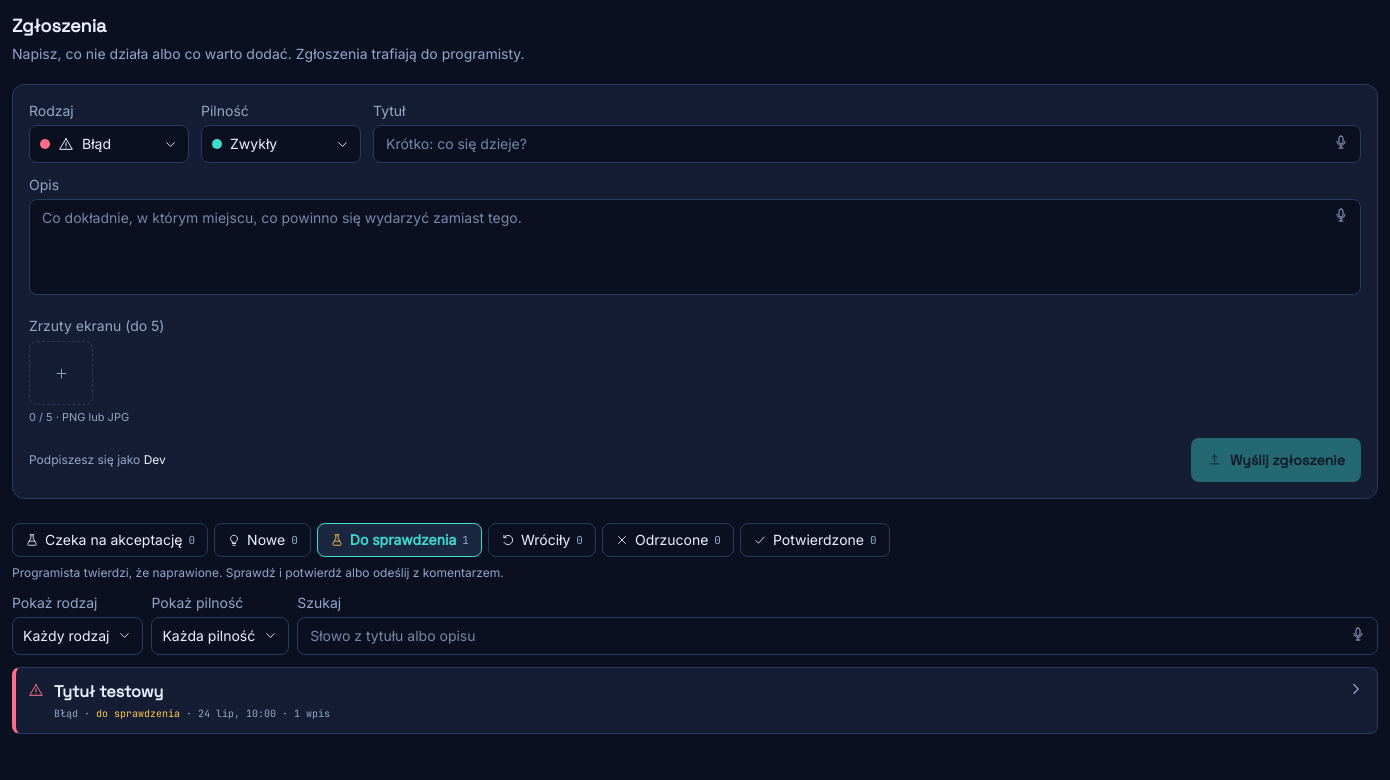
Test: ReportsPanel — podpis autora notatki › stara notatka bez autora dalej pokazuje etykietę strony obiegu
Click the button "Tytuł testowy": (109, 691) 12,666 -> 1378,734
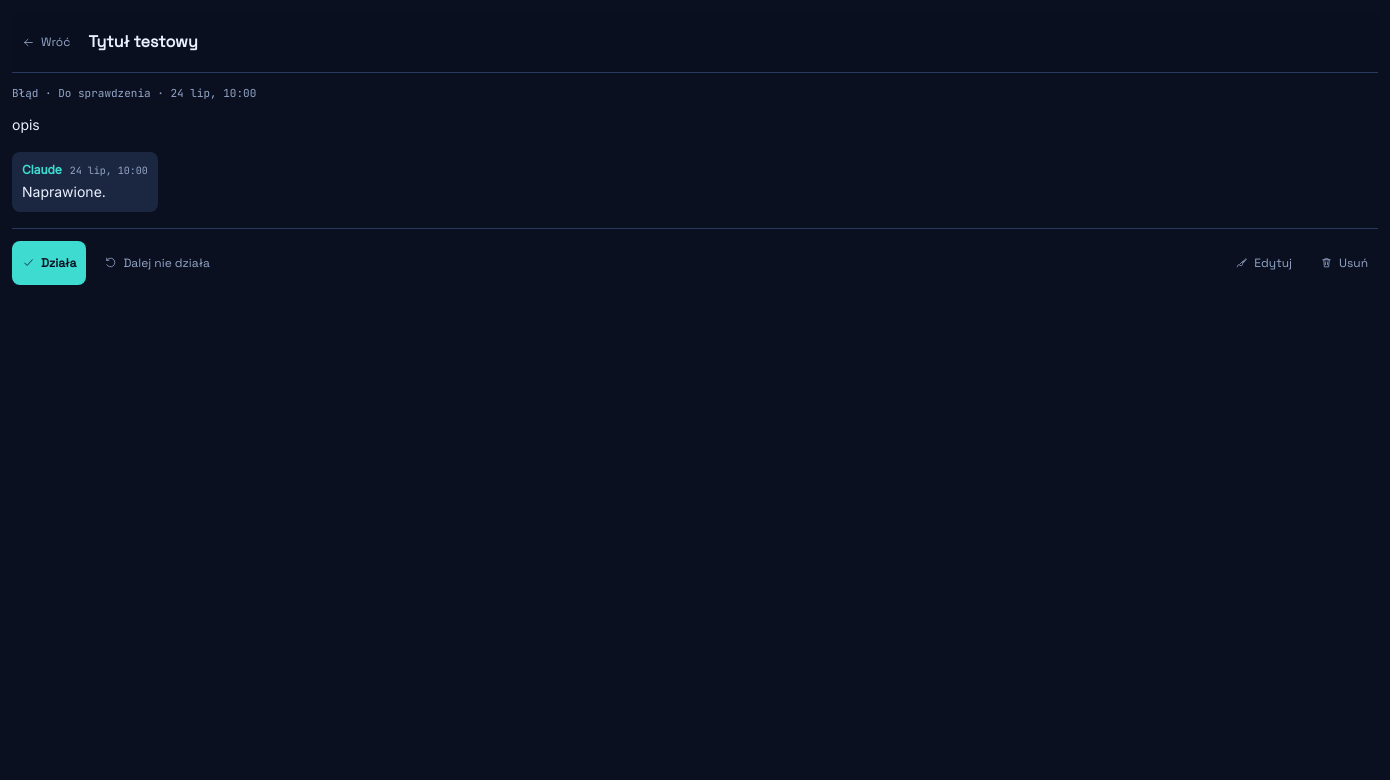
Expected: the text "Claude" is shown, 22,162 -> 62,178
